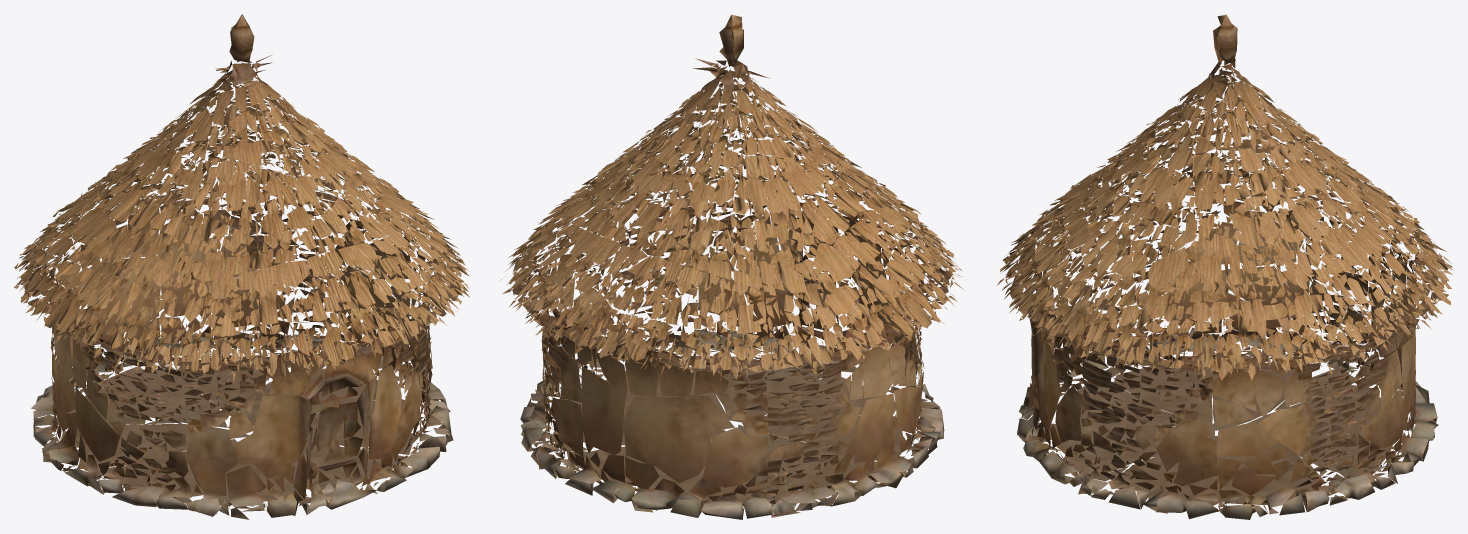
File: etiopia_casa.glb
3 renders of one model, left to right at view 1: azimuth 30°, elevation 25°; view 2: azimuth 150°, elevation 25°; view 3: azimuth 270°, elevation 25°, orthographic.
Visible parts, largest first — view 1: Mesh_0; view 2: Mesh_0; view 3: Mesh_0.
Part boxes in pixels (x1,y1,x2,y2): Mesh_0: [14, 14, 470, 519]; Mesh_0: [501, 14, 966, 519]; Mesh_0: [997, 14, 1453, 519].
Size of the model in its own units: 1.88 by 1.9 by 1.87.
Materials: 1 (1 with a texture image).
